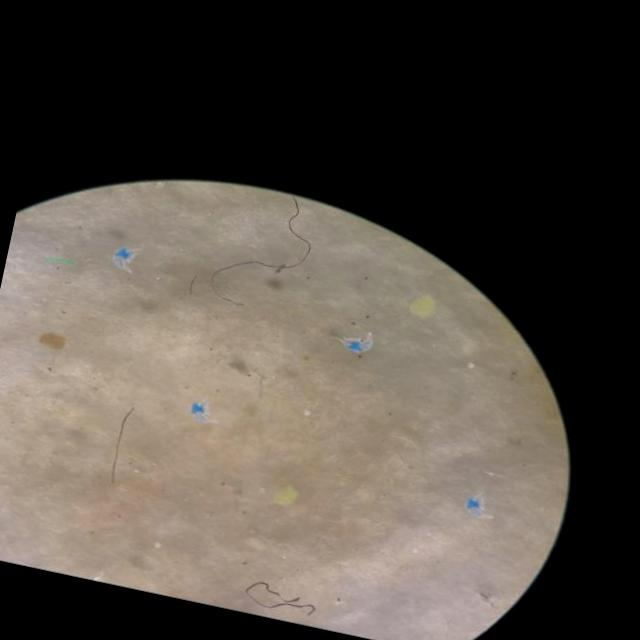fiber: (214, 198, 311, 278), (247, 581, 316, 614), (111, 408, 134, 480)
film: (345, 331, 374, 353), (113, 245, 133, 265), (465, 496, 485, 516), (192, 402, 207, 421)
fragment: (410, 294, 435, 317), (39, 332, 65, 350), (275, 486, 298, 504)
pellet: (154, 541, 162, 548), (468, 362, 473, 368), (305, 409, 310, 415), (412, 548, 417, 552)
